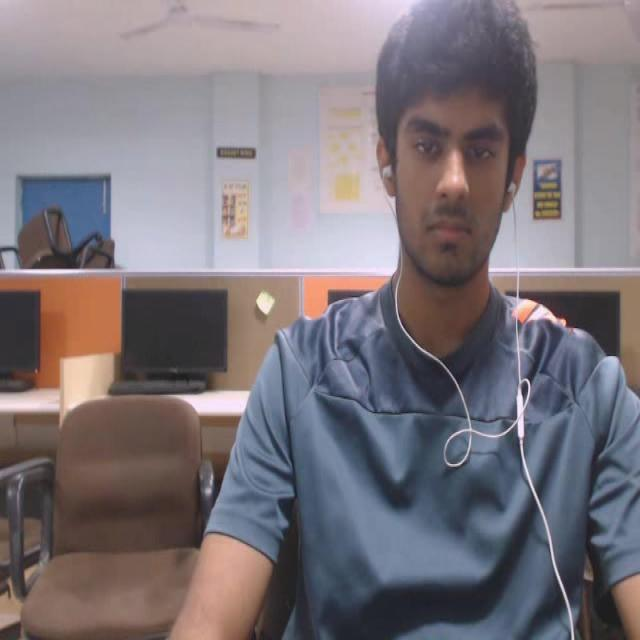Bored: (361, 0, 568, 317)
